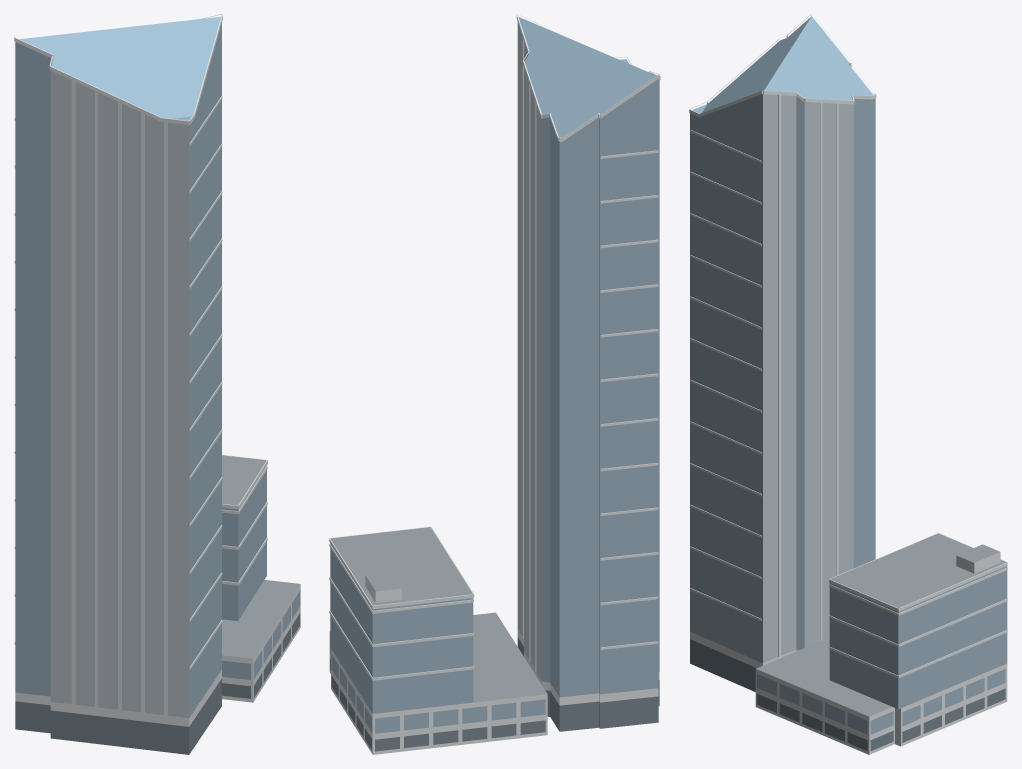
File: detail.glb
The picture shows the model from 3 angles, left to right: view 1: azimuth 30°, elevation 25°; view 2: azimuth 150°, elevation 25°; view 3: azimuth 270°, elevation 25°; orthographic projection. The views are drawn at different scales.
Visible parts, largest first — view 1: millennium-tower; view 2: millennium-tower; view 3: millennium-tower.
Part boxes in pixels (left/top/right/bottom): millennium-tower: left=14, top=14, right=300, bottom=754; millennium-tower: left=329, top=14, right=660, bottom=754; millennium-tower: left=689, top=14, right=1007, bottom=754.
Size of the model in its own units: 95.32 by 198 by 94.26.
